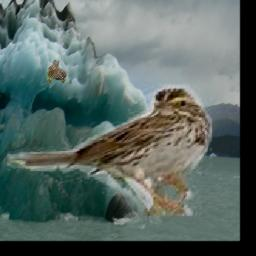Sparrow: (6, 84, 211, 216), (46, 59, 67, 83)
